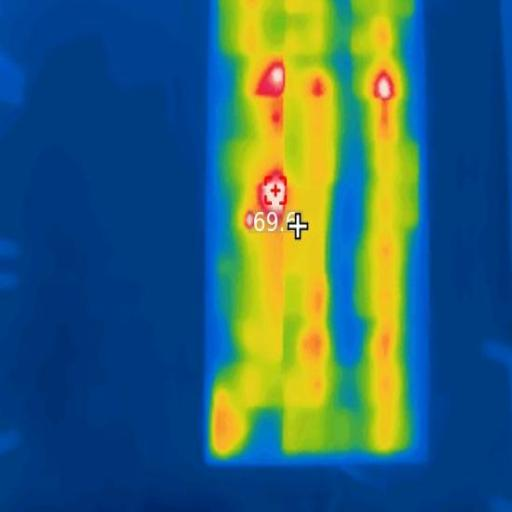hotspot: (256, 62, 286, 104), (259, 172, 287, 216), (374, 74, 393, 105), (307, 80, 326, 100), (243, 210, 254, 233)
